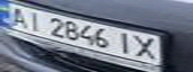2: (42, 15, 66, 39)
4: (78, 22, 96, 46)
6: (93, 26, 115, 50)
8: (60, 19, 81, 42)
A: (3, 4, 33, 29)
I: (112, 29, 139, 55), (21, 9, 48, 33)
X: (130, 34, 163, 61)
